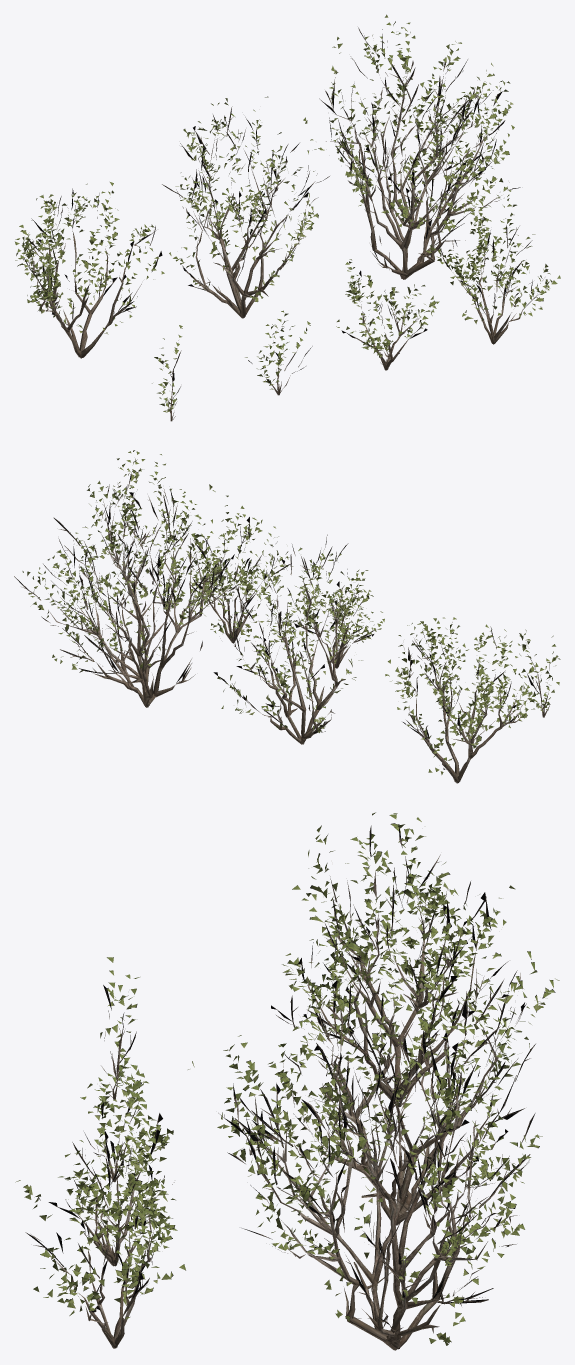
Rendered from searsia_lucida_far.glb.
The picture shows the model from 3 angles, top to bottom: view 1: azimuth 30°, elevation 25°; view 2: azimuth 150°, elevation 25°; view 3: azimuth 270°, elevation 25°; orthographic projection. The views are drawn at different scales.
Parts seen in each view (by area): view 1: searsia_lucida_a_LOD0; view 2: searsia_lucida_a_LOD0; view 3: searsia_lucida_a_LOD0.
Part boxes in pixels (bbox=[...]): searsia_lucida_a_LOD0: bbox=[15, 14, 560, 421]; searsia_lucida_a_LOD0: bbox=[14, 450, 560, 783]; searsia_lucida_a_LOD0: bbox=[15, 812, 559, 1350].
Bounding box in the file's own units: 4.74 × 2.28 × 2.81.
2 materials, 2 textured.
